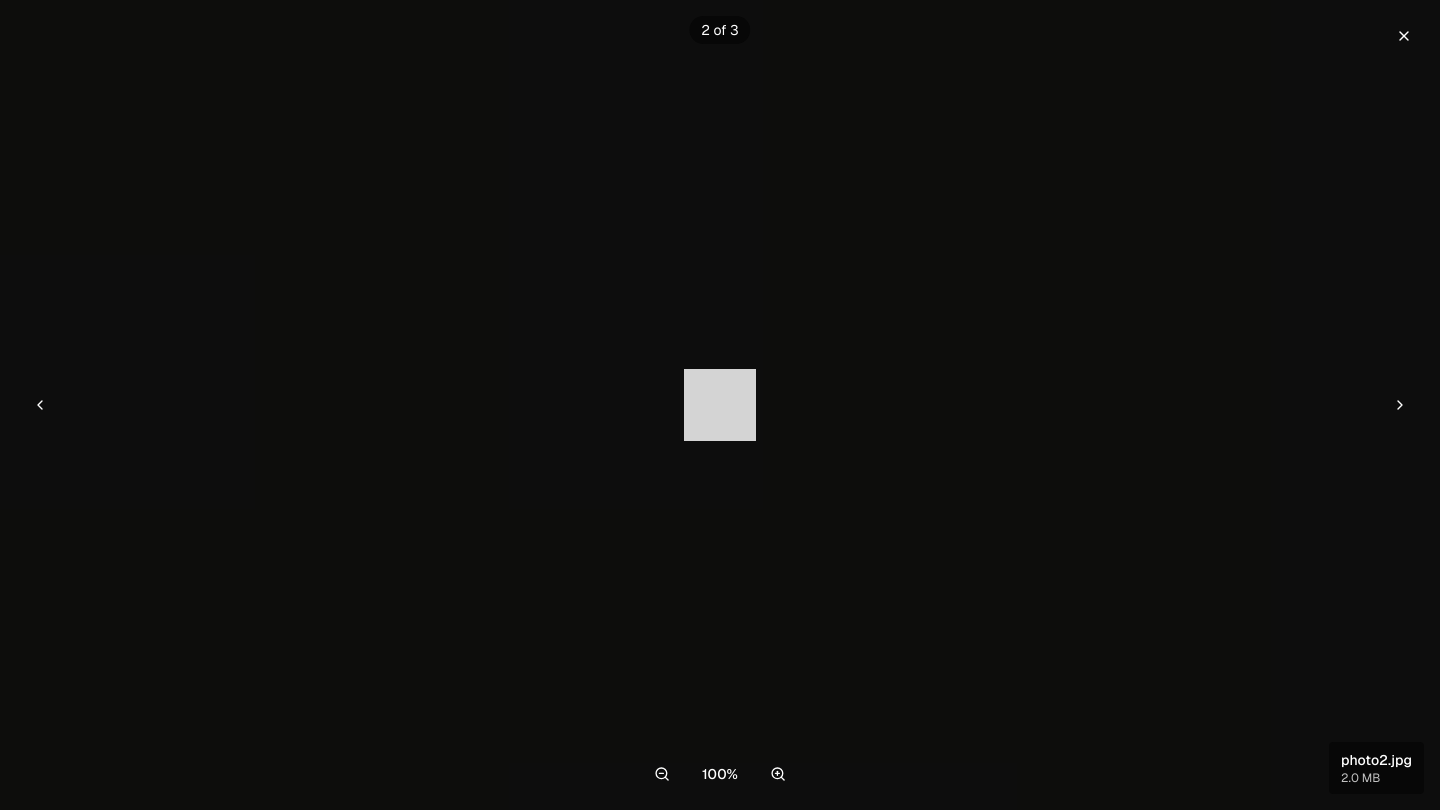
Test case: PhotoLightbox › Navigation Controls › navigates to previous photo when previous button is clicked
Click the button named "Previous photo": [40, 405] box [16,381,64,429]
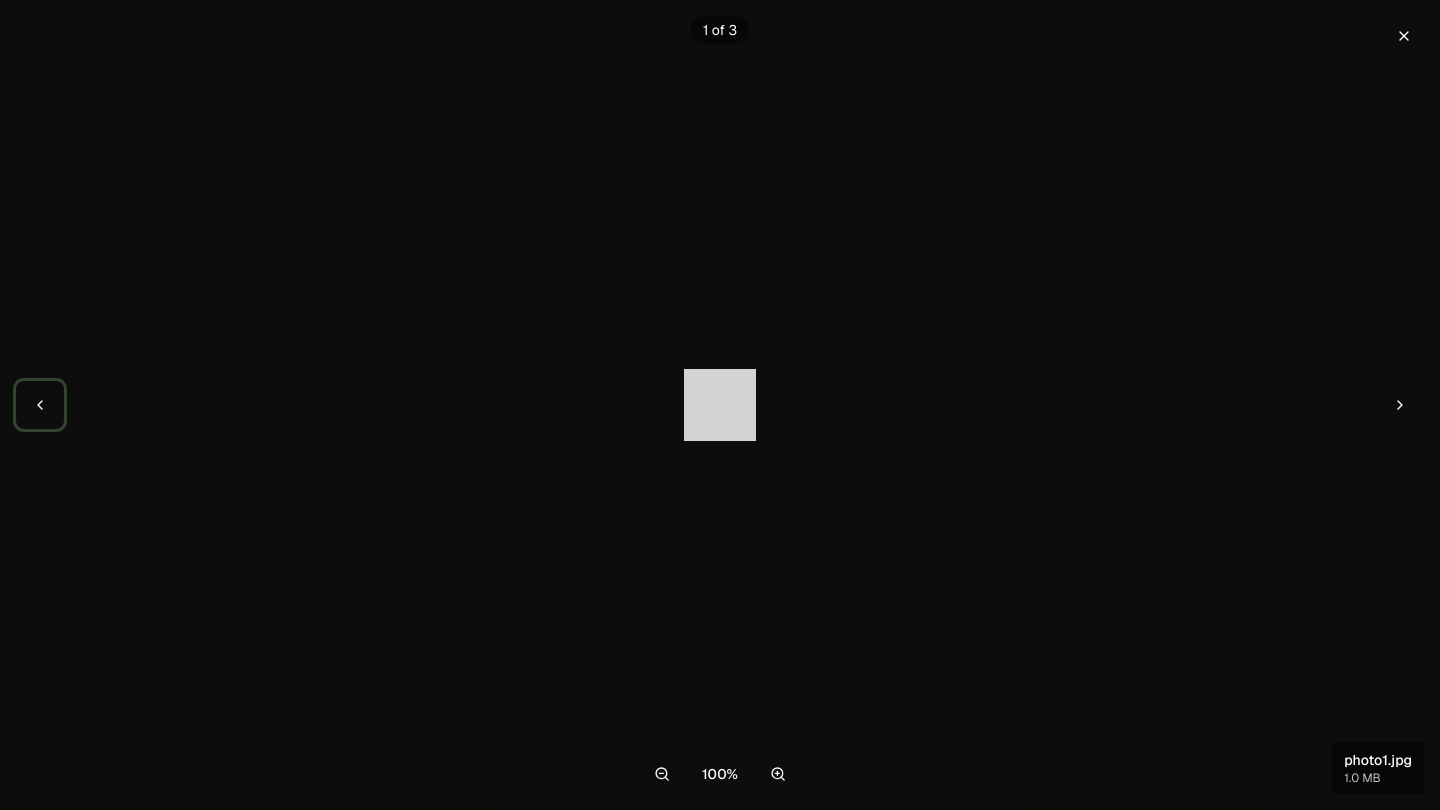
expect the text "1 of 3" is shown: met, box [691,16,749,44]
